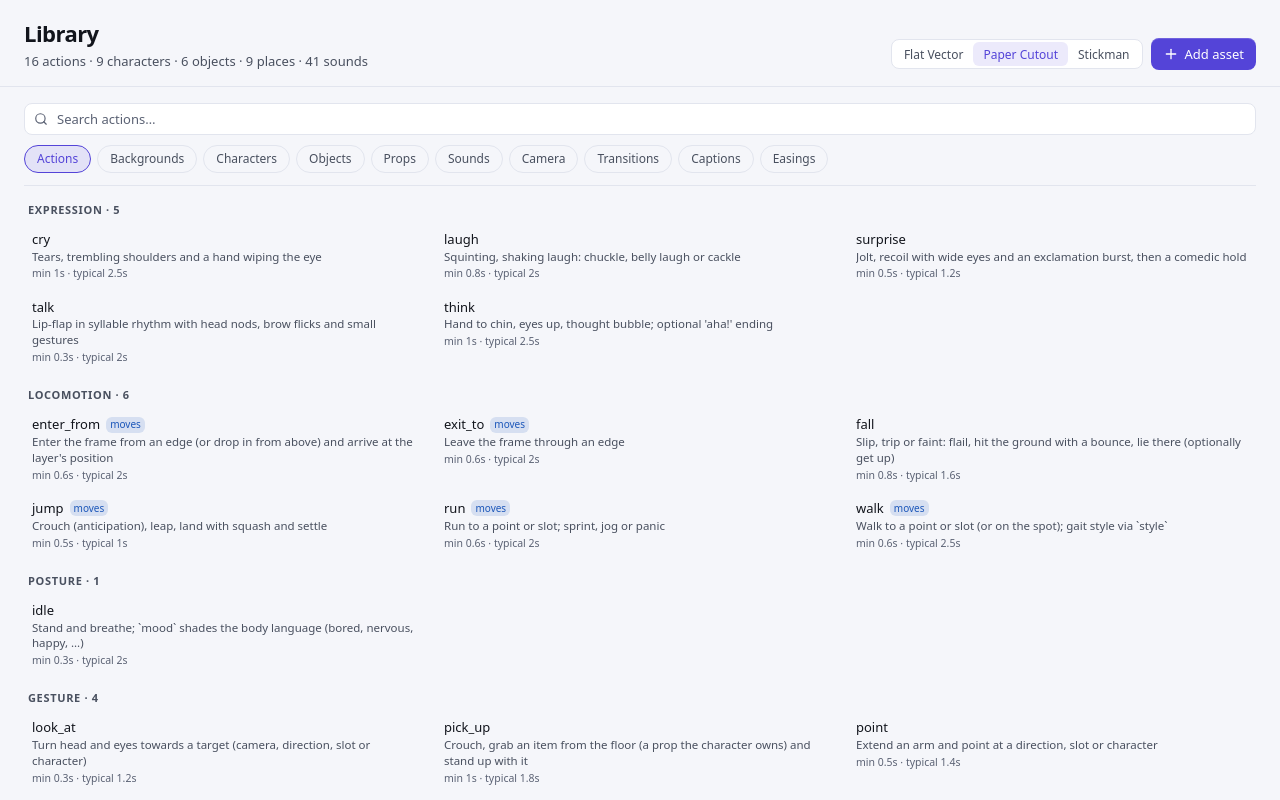
it: the library page › has an Objects tab: each library object with its badge, size, colours and first words (all of them in a tooltip)
The width and height of the screenshot is (1280, 800).
Click the tab "Objects".
click(330, 159)  # box top-left (296, 145), bottom-right (365, 173)
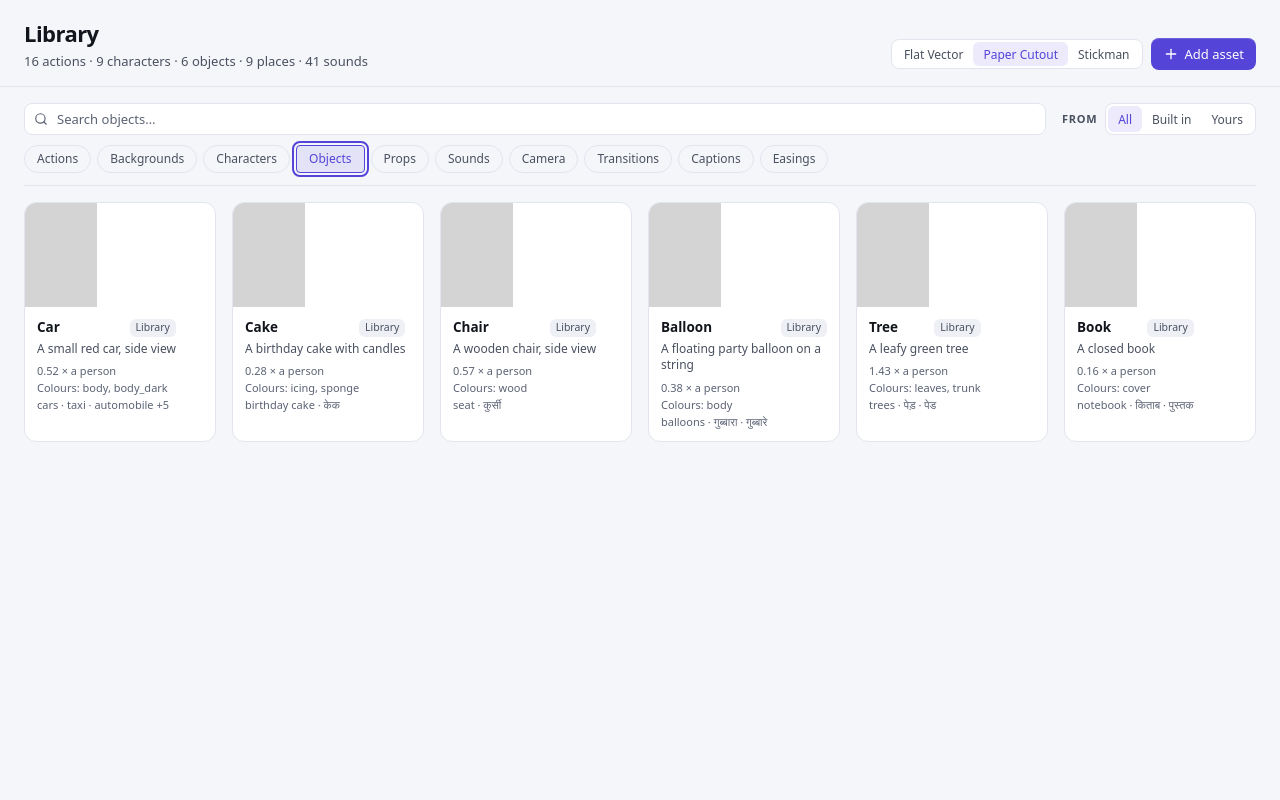
Expected: the 1st text "Library" is shown, top-left (130, 319), bottom-right (176, 337)
Expected: the text "A small red car, side view" is shown, top-left (37, 341), bottom-right (176, 357)
Expected: the text "0.52 × a person" is shown, top-left (37, 363), bottom-right (116, 378)
